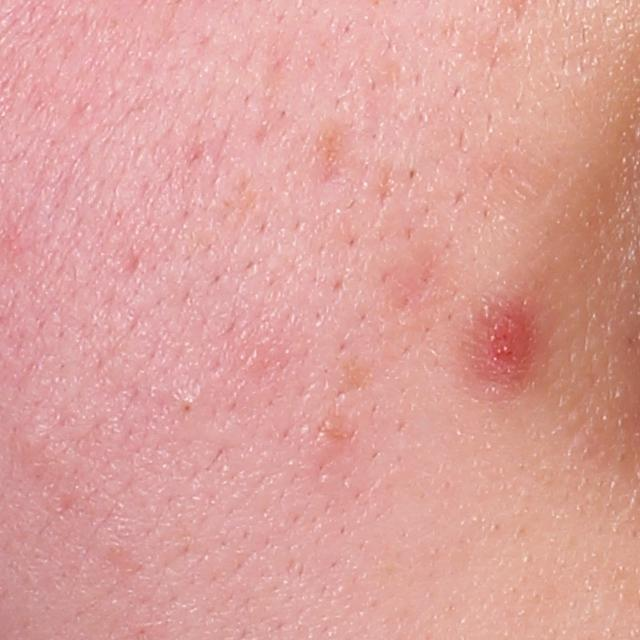comedo: (176, 393, 202, 425)
papule: (474, 304, 537, 370)
